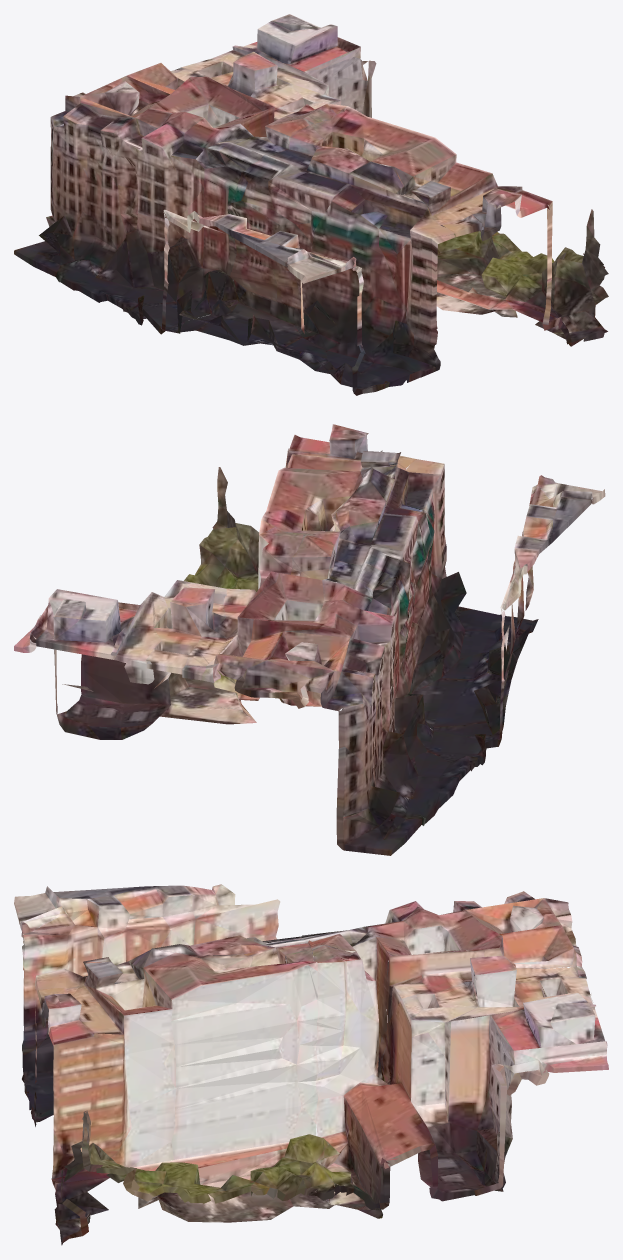
3 renders of one model, top to bottom at view 1: azimuth 30°, elevation 25°; view 2: azimuth 150°, elevation 25°; view 3: azimuth 270°, elevation 25°, orthographic. The views are drawn at different scales.
Visible parts, largest first — view 1: Mesh_0; view 2: Mesh_0; view 3: Mesh_0.
Part boxes in pixels (bbox=[...]): Mesh_0: bbox=[14, 14, 608, 395]; Mesh_0: bbox=[14, 424, 605, 855]; Mesh_0: bbox=[14, 884, 608, 1245].
Bounding box in the file's own units: 67.2 × 31.43 × 82.63.
1 material, 1 textured.
